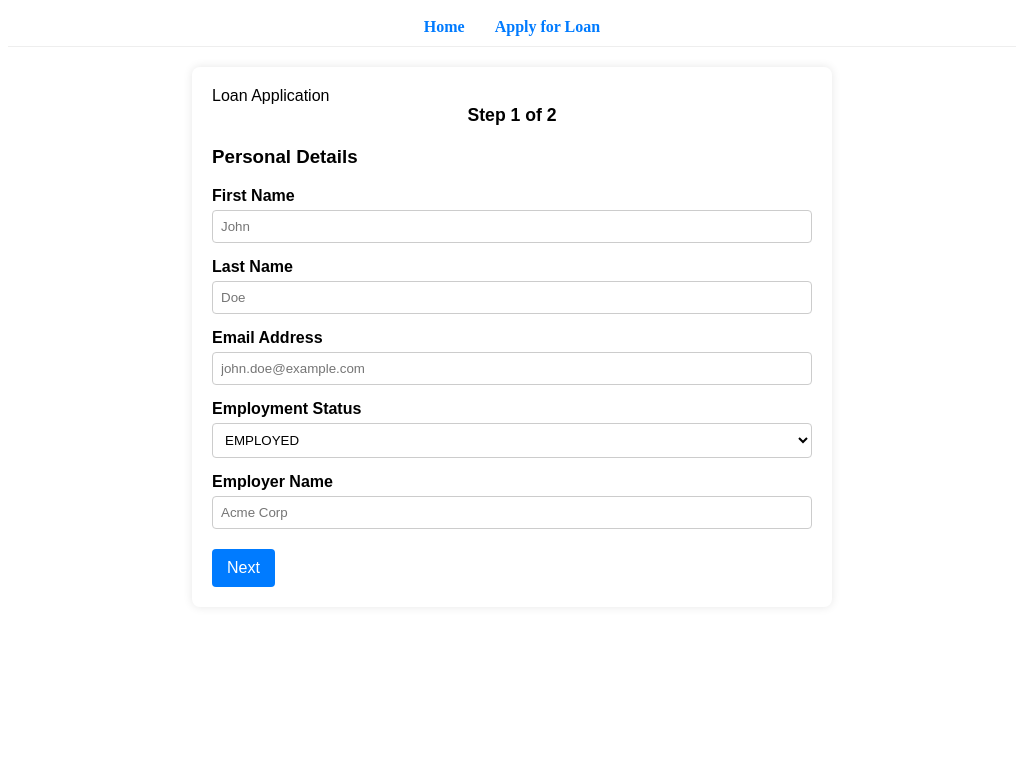
Loan Application Form E2E Tests › Step 1: Personal Details › should toggle Employer Name field based on Employment Status and validate accordingly
Check: the text "Employer Name" is shown, box [212, 473, 333, 490]
Note: Change to Unemployed - Employer Name hides
Select "UNEMPLOYED" in the dropdown with test id "employment-status-input". click: [512, 441]
box: [212, 423, 812, 458]
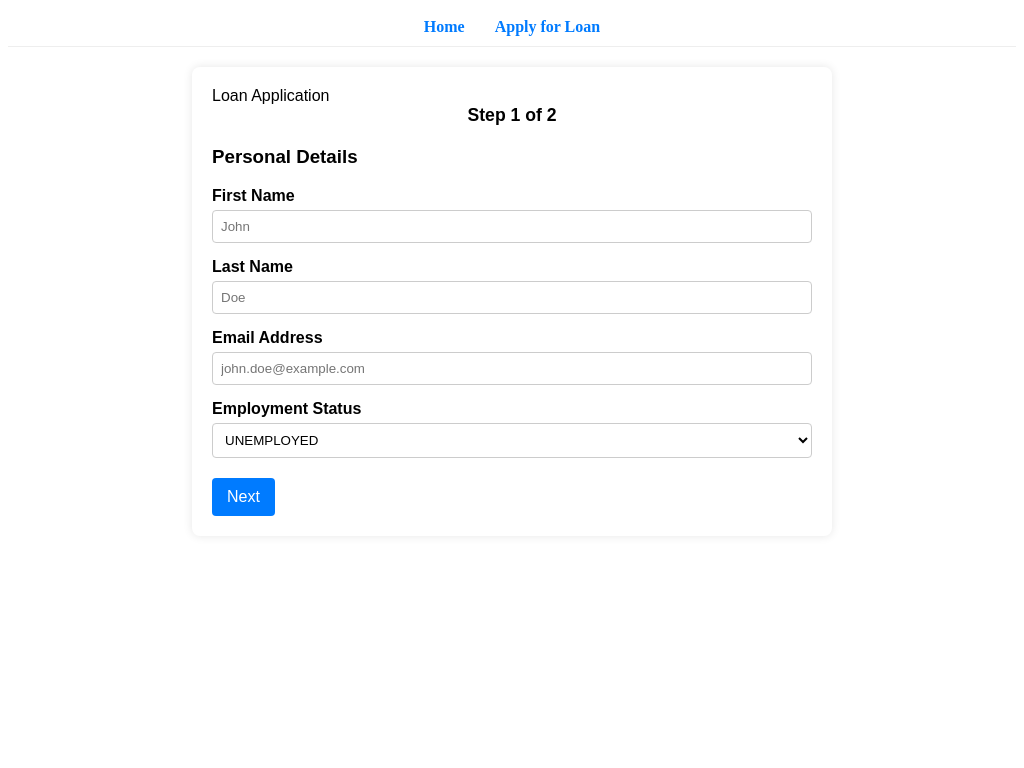
Check: the field with test id "employer-name-input" is gone
Note: Fill other fields for step 1 to be valid (except employer name)
Type "Test" into the field with test id "first-name-input". click: [512, 227]
box: [212, 210, 812, 243]
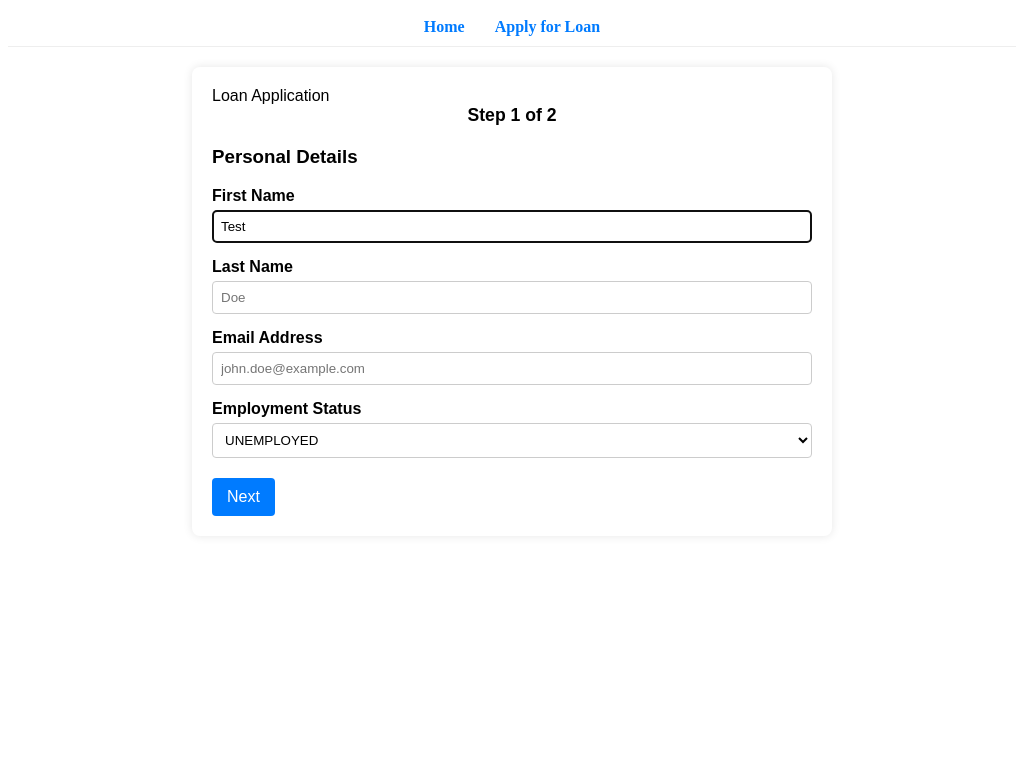
Type "User" into the field with test id "last-name-input". click: [512, 298]
box: [212, 281, 812, 314]
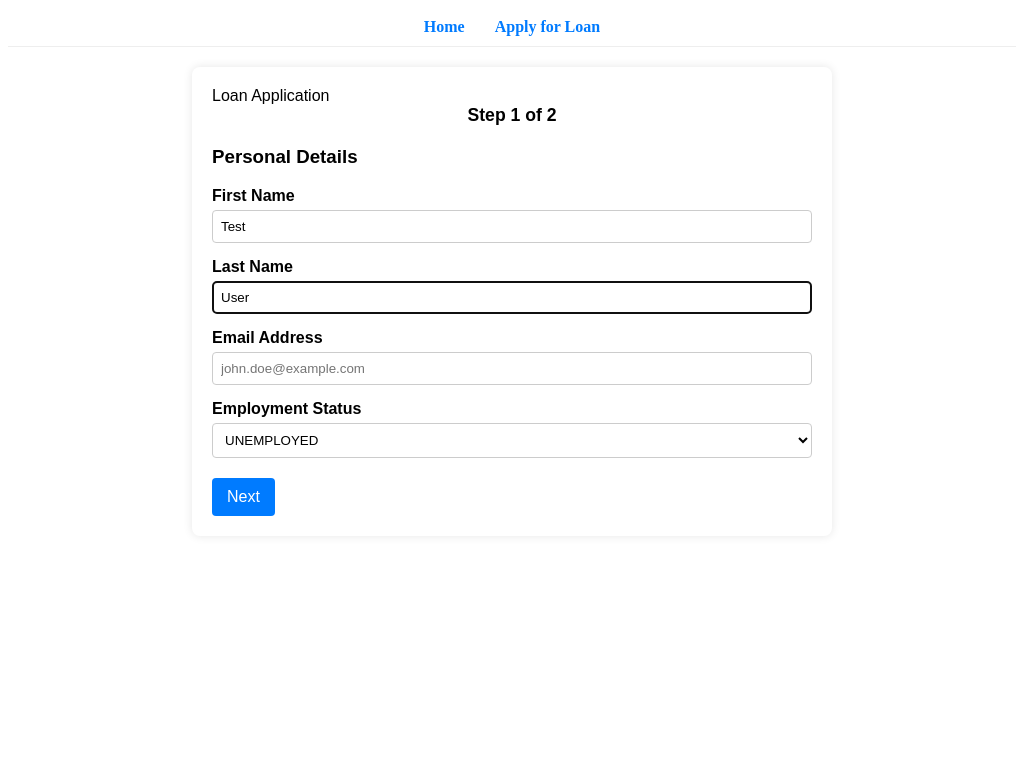
Type "valid@email.com" into the field with test id "email-input". click: [512, 369]
box: [212, 352, 812, 385]
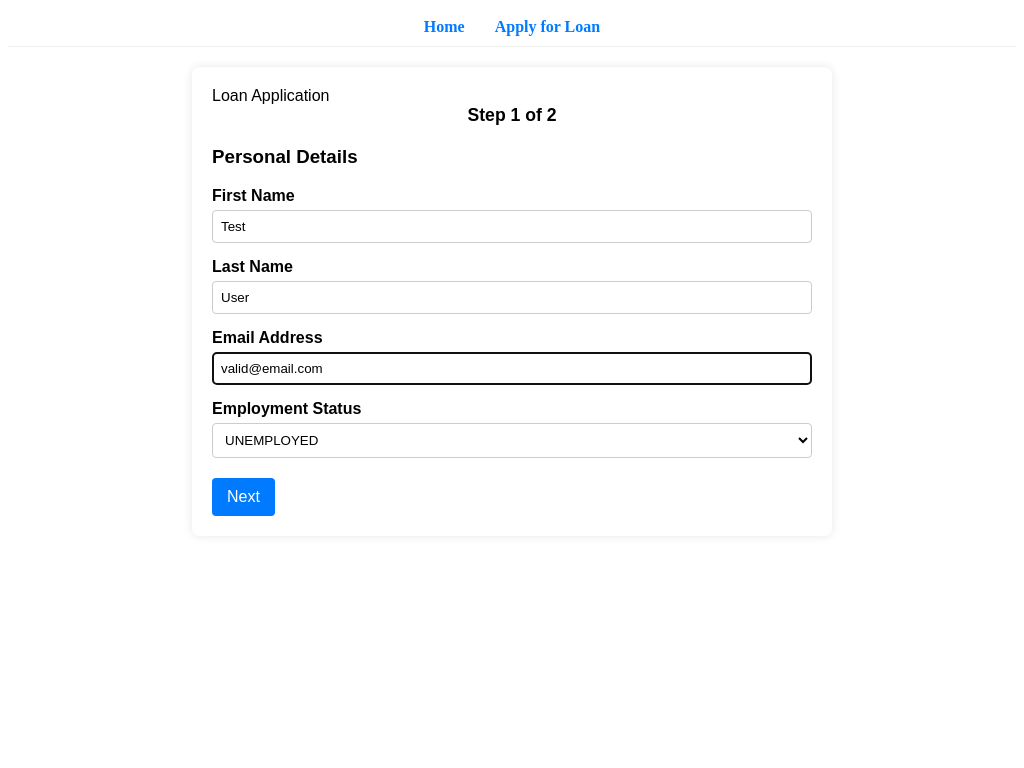
Click the button with test id "next-button". click: [244, 497]
box: [212, 478, 275, 516]
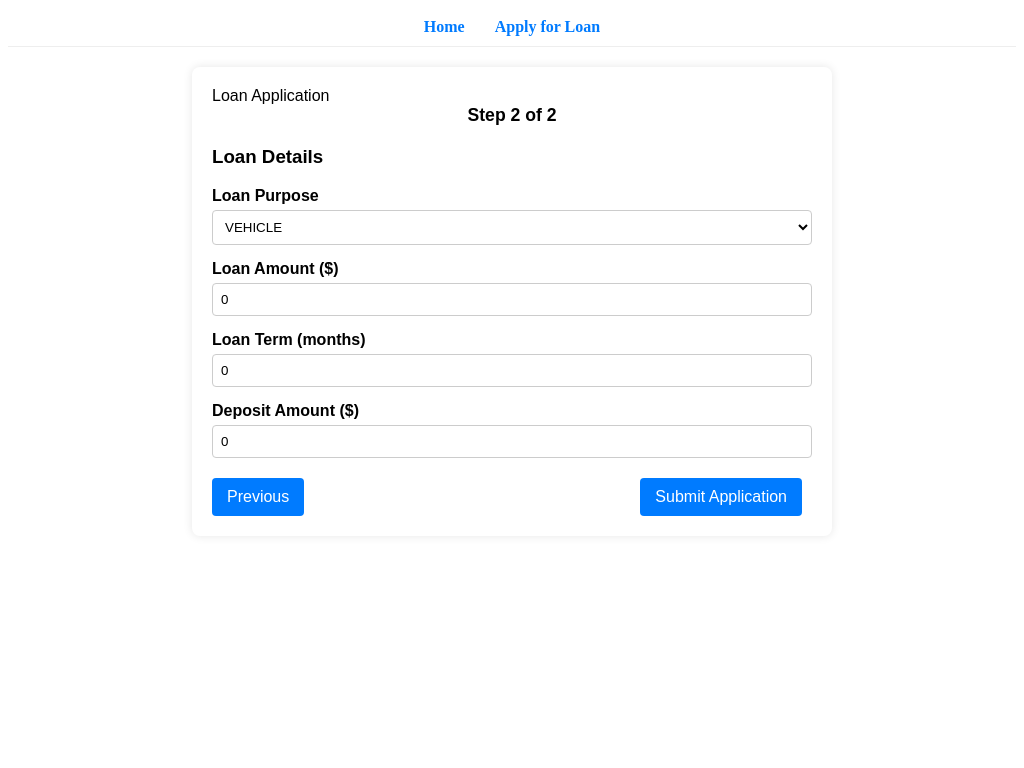
Check: the text "Step 2 of 2" is shown, box [468, 105, 556, 125]
